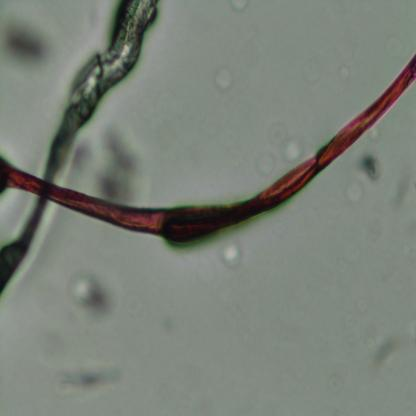Background material: (74, 129, 144, 202), (67, 262, 116, 322), (0, 21, 53, 69), (56, 366, 121, 394), (372, 326, 404, 370), (268, 121, 301, 162), (296, 46, 326, 84), (357, 150, 383, 184), (210, 62, 233, 94), (220, 240, 242, 269), (345, 178, 365, 209), (382, 34, 404, 58), (339, 62, 350, 88), (230, 0, 250, 13)
Cellulose filter fibre: (0, 0, 160, 296)
Cotton: (0, 52, 416, 235)
